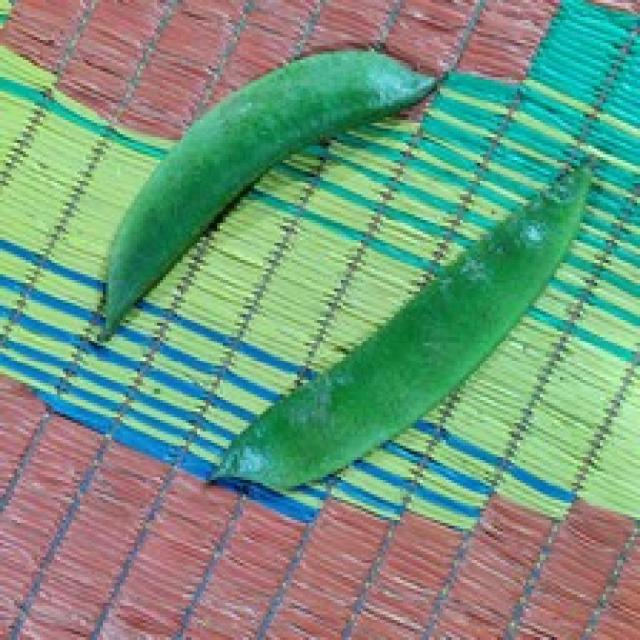Bean: (203, 160, 591, 491), (89, 46, 437, 346)
